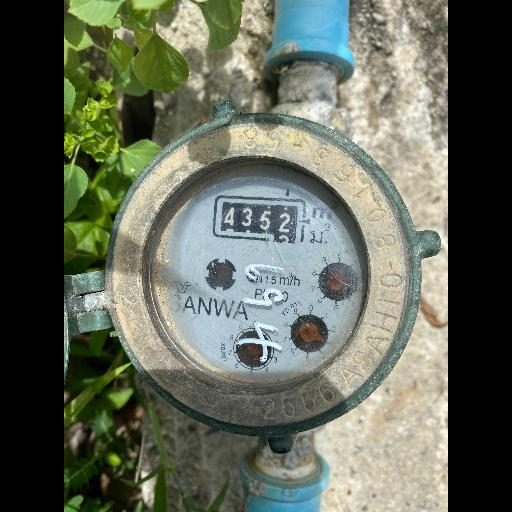2: (273, 205, 298, 244)
3: (240, 203, 259, 234)
4: (221, 202, 241, 233)
5: (257, 205, 276, 236)
border_water_meter_number: (212, 192, 307, 244)
